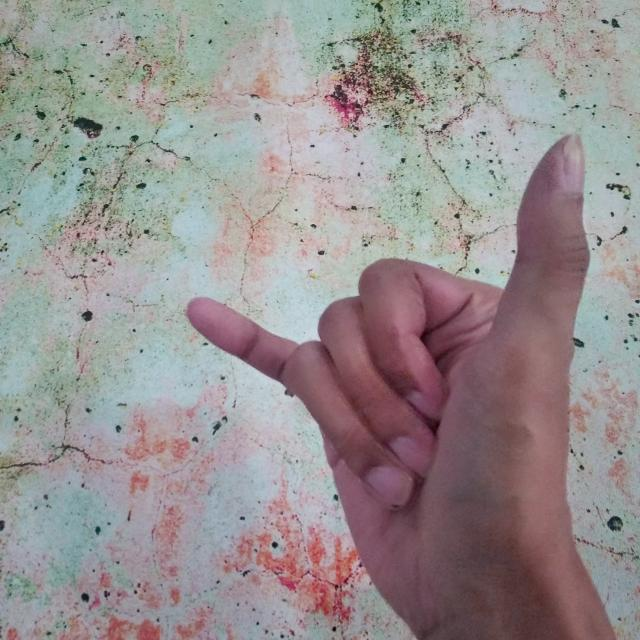Y: (179, 118, 600, 640)
